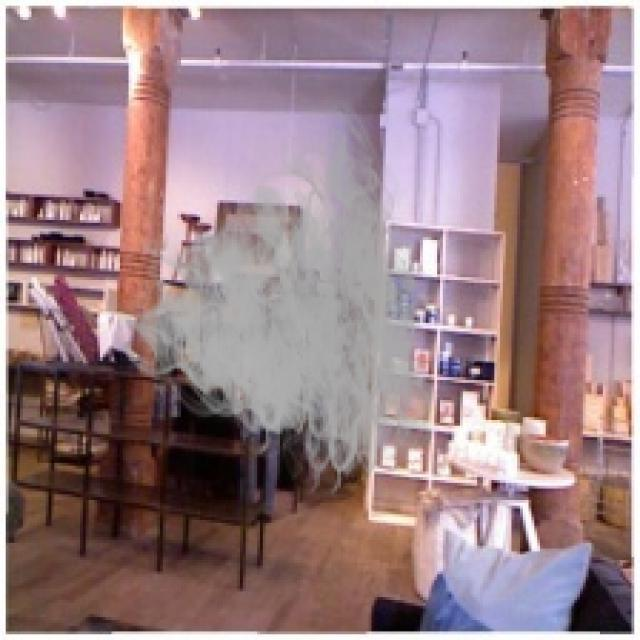Smoke: (106, 91, 454, 512)
